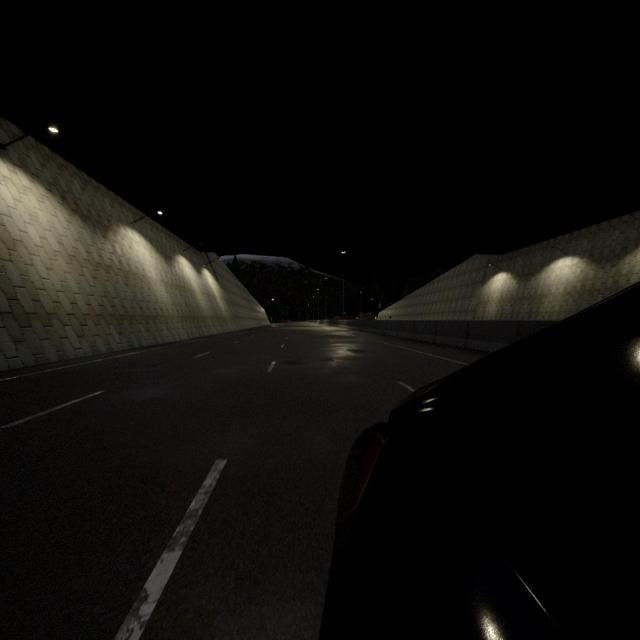Vehicle: (320, 283, 640, 638)
